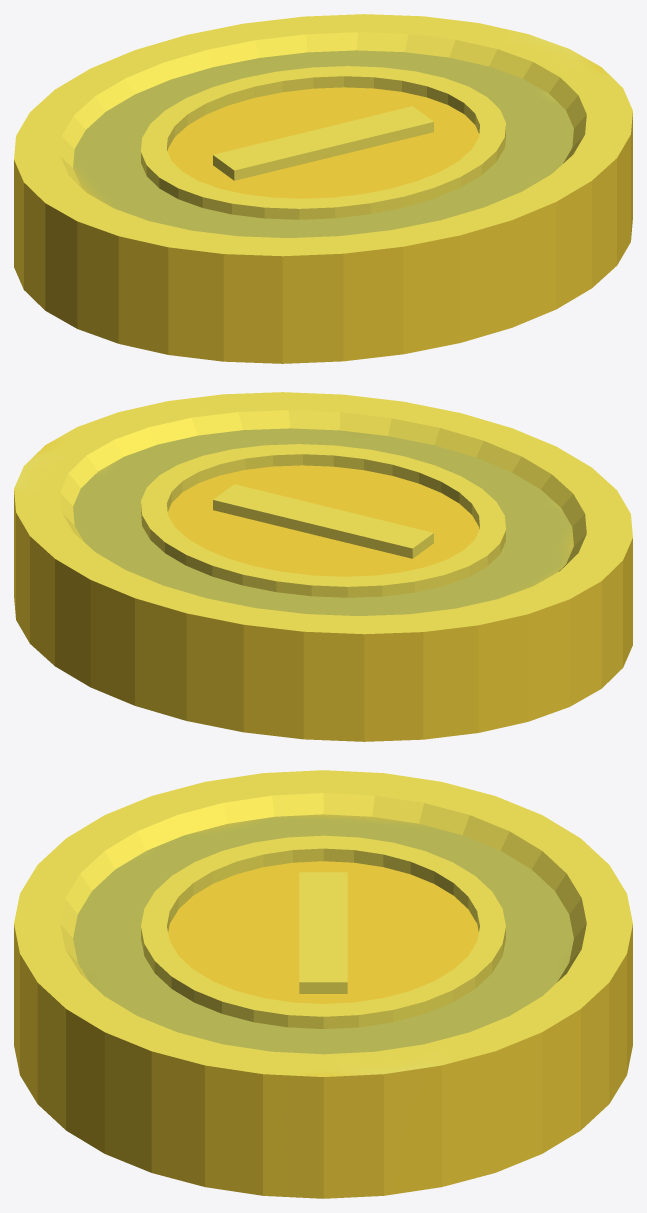
File: Coin.fbx
3 renders of one model, top to bottom at view 1: azimuth 30°, elevation 25°; view 2: azimuth 150°, elevation 25°; view 3: azimuth 270°, elevation 25°, orthographic. The views are drawn at different scales.
Parts seen in each view (by area): view 1: Circle; view 2: Circle; view 3: Circle.
Part boxes in pixels (bbox=[...]): Circle: bbox=[14, 14, 632, 363]; Circle: bbox=[14, 392, 632, 741]; Circle: bbox=[14, 770, 632, 1198].
Size of the model in its own units: 200 by 36.97 by 170.
Materials: 1 (1 with a texture image).
